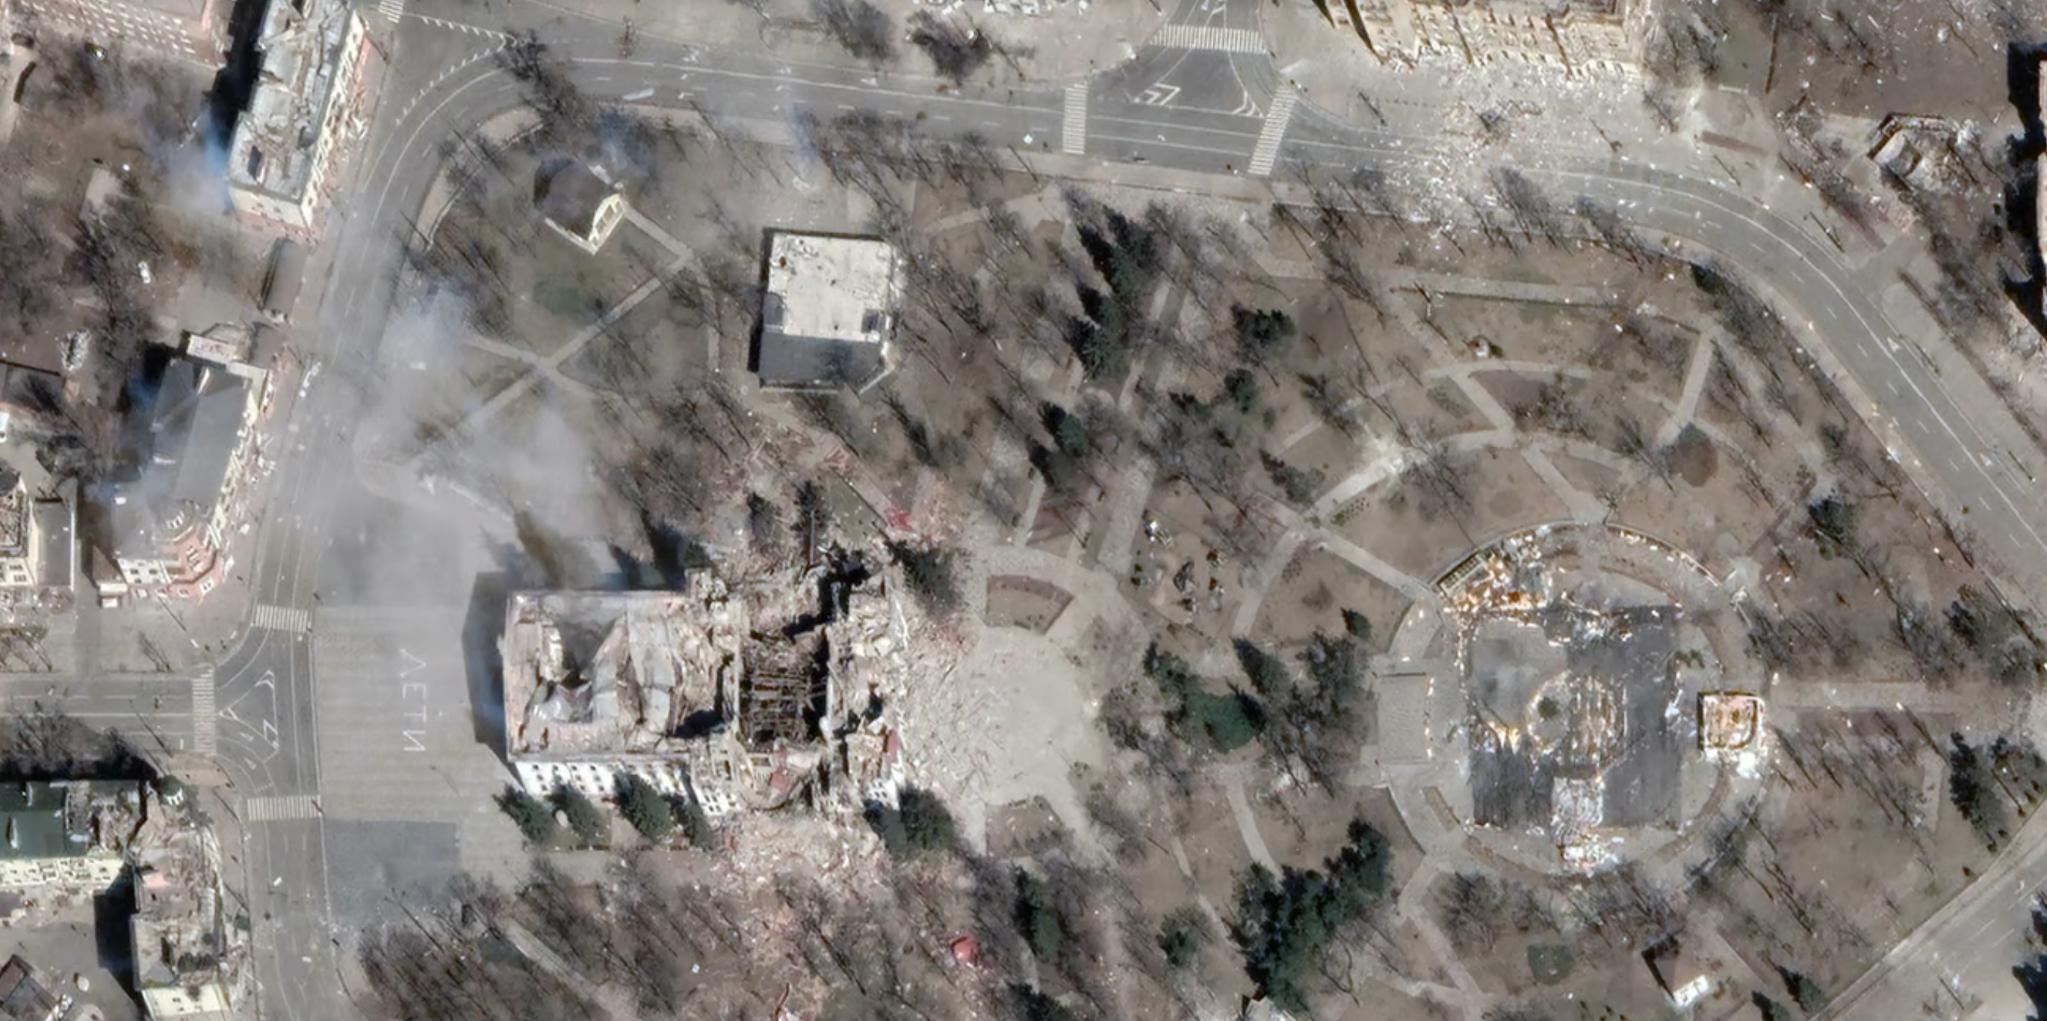demaged-building-high: (510, 588, 920, 799)
demaged-building-medium: (137, 790, 217, 978)
